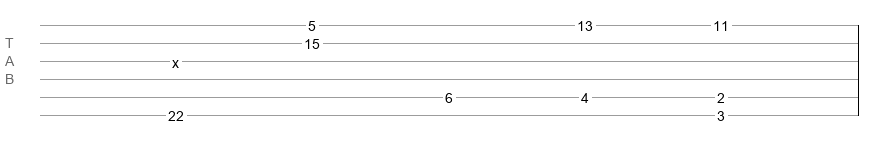11: (713, 18, 729, 28)
13: (577, 18, 593, 28)
15: (304, 36, 320, 46)
2: (717, 90, 725, 100)
22: (168, 108, 184, 118)
3: (717, 108, 725, 118)
4: (581, 90, 589, 100)
5: (308, 18, 316, 28)
6: (445, 90, 453, 100)
x: (172, 55, 179, 63)
